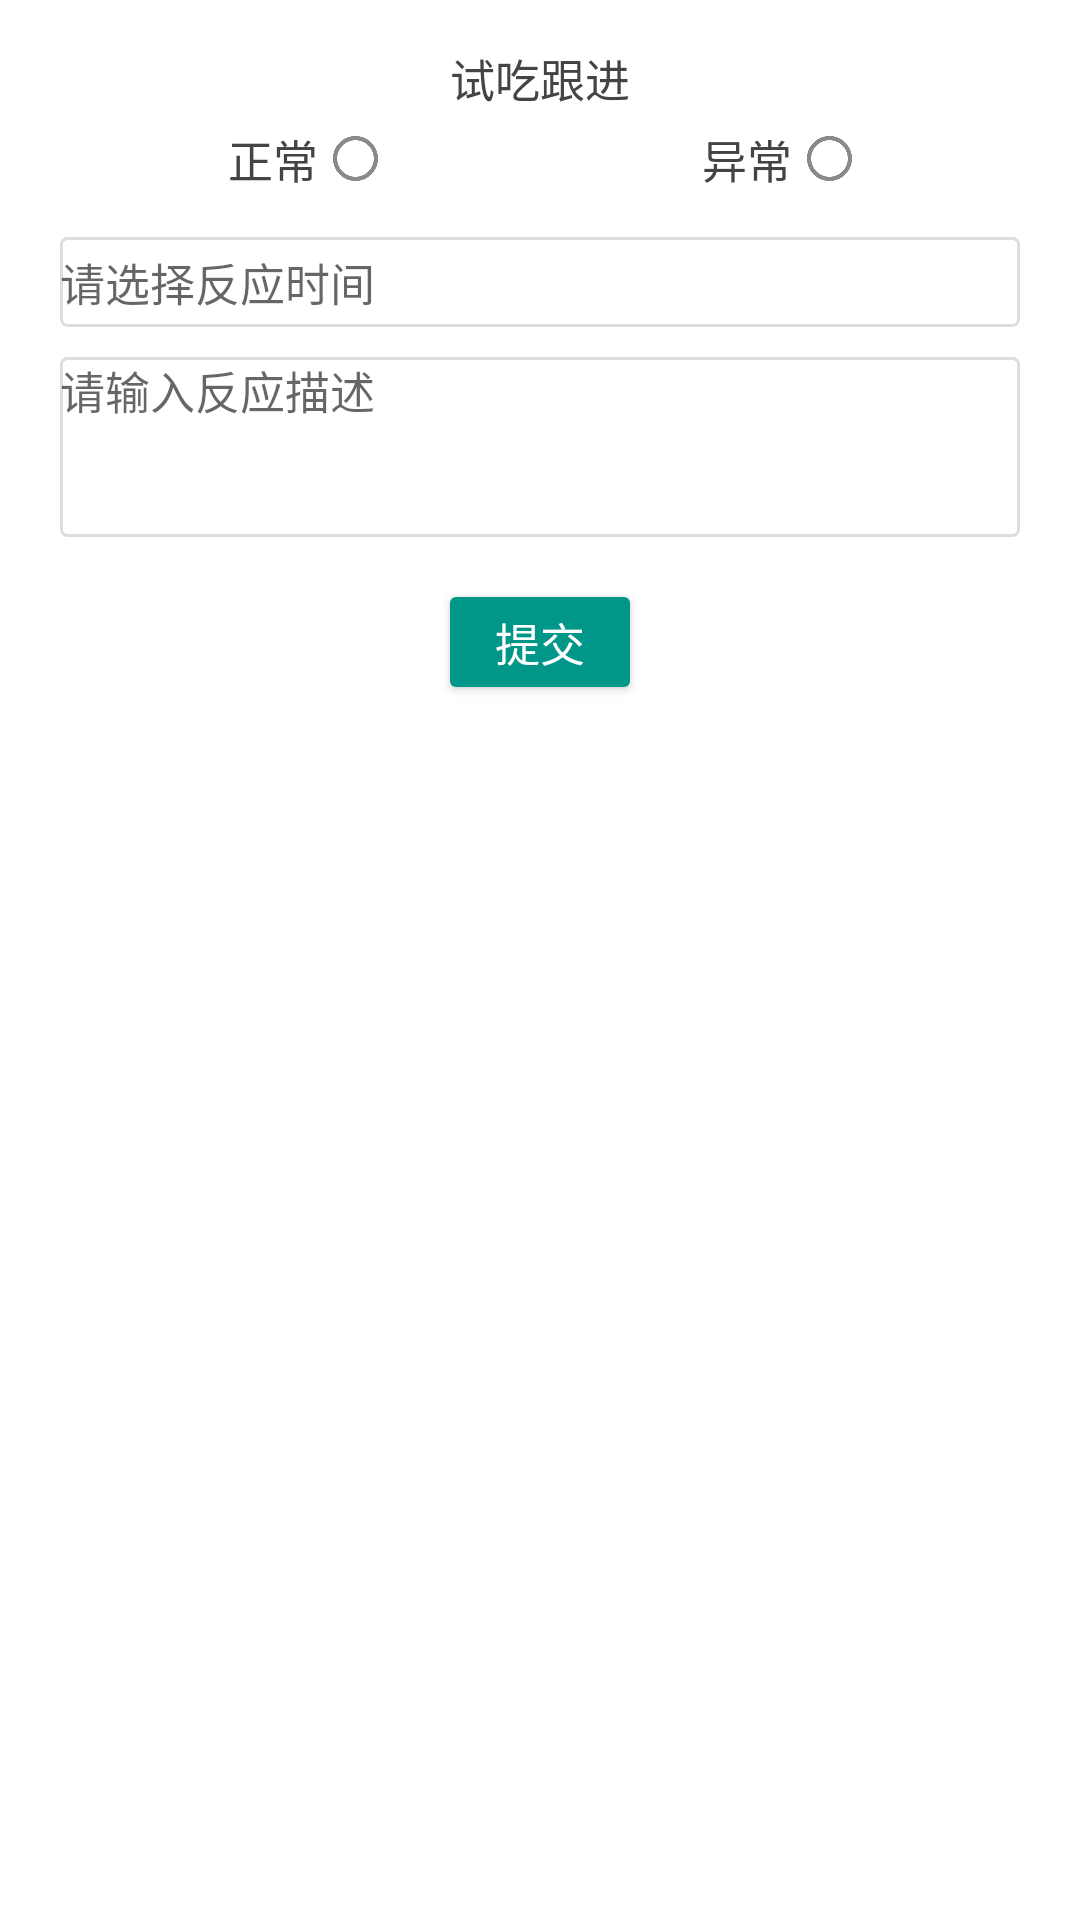

Icons on this 1080 x 1920 Android screen, each with its box as {"left": x1, "top": y1, "right": x2, "bottom": y2}:
circle: {"left": 333, "top": 136, "right": 378, "bottom": 181}, {"left": 807, "top": 136, "right": 852, "bottom": 181}
